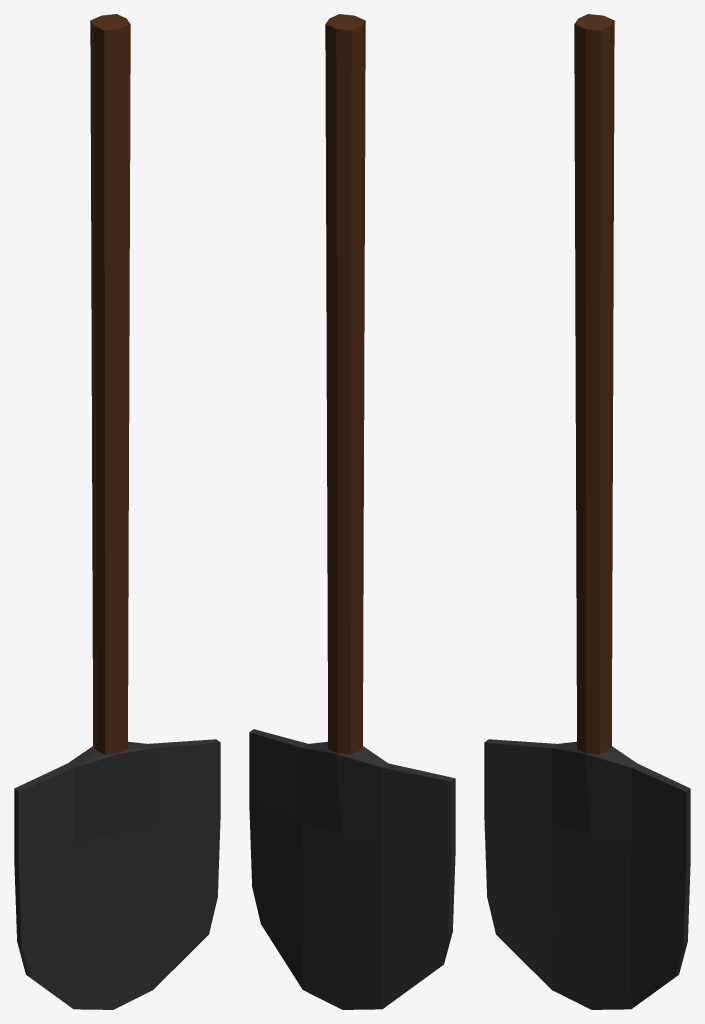
File: shovel.glb
The picture shows the model from 3 angles, left to right: view 1: azimuth 30°, elevation 25°; view 2: azimuth 150°, elevation 25°; view 3: azimuth 330°, elevation 25°; orthographic projection.
Visible parts, largest first — view 1: WinterShovel; view 2: WinterShovel; view 3: WinterShovel.
Part boxes in pixels (bbox=[...]): WinterShovel: bbox=[14, 14, 220, 1009]; WinterShovel: bbox=[249, 14, 455, 1009]; WinterShovel: bbox=[484, 14, 690, 1009].
Bounding box in the file's own units: 60.64 × 283 × 9.51.
Materials: 1 (1 with a texture image).
